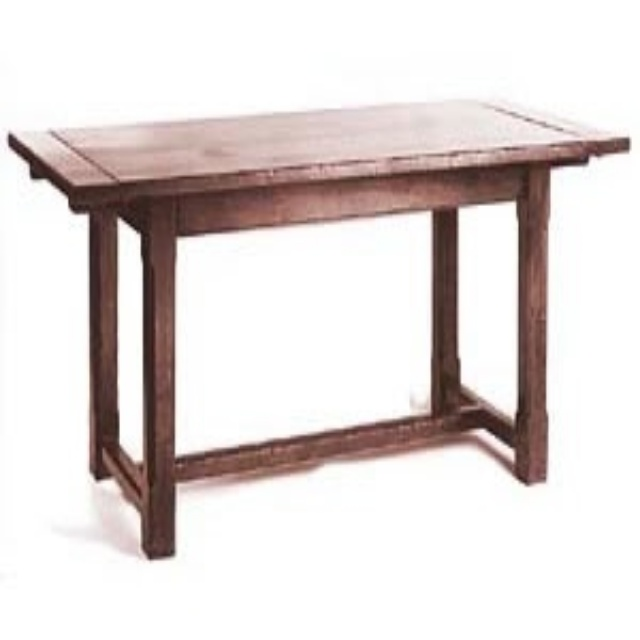obstacle: (9, 99, 627, 554)
